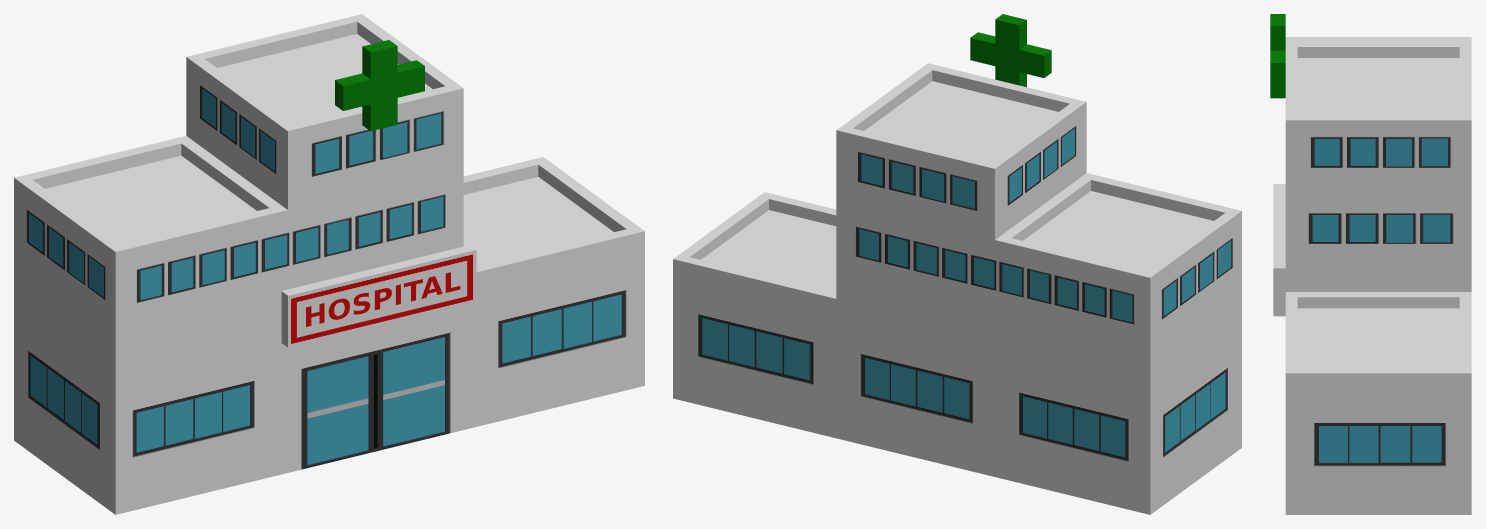
Rendered from hospital2.fbx.
3 renders of one model, left to right at view 1: azimuth 30°, elevation 25°; view 2: azimuth 150°, elevation 25°; view 3: azimuth 270°, elevation 25°, orthographic. The views are drawn at different scales.
Parts seen in each view (by area): view 1: Cube; view 2: Cube; view 3: Cube.
Boxes of the visible parts, x1,y1,x2,y2 form: Cube: (14, 14, 644, 514); Cube: (673, 14, 1241, 514); Cube: (1270, 14, 1471, 514).
Bounding box in the file's own units: 602 × 444 × 216.
